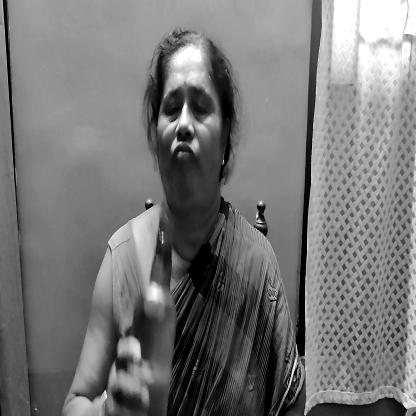Normal: (150, 34, 224, 200)
